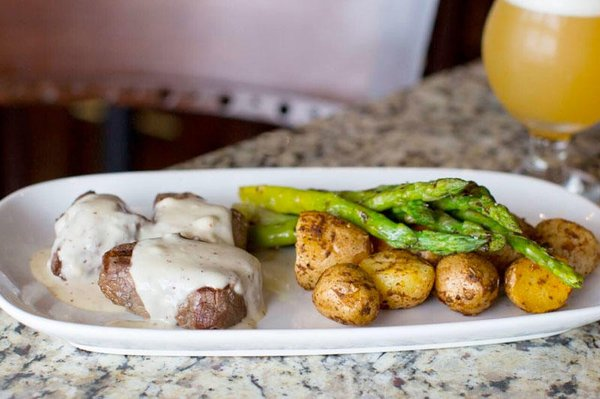curry: (39, 27, 598, 399)
sandwich: (481, 0, 600, 182)
